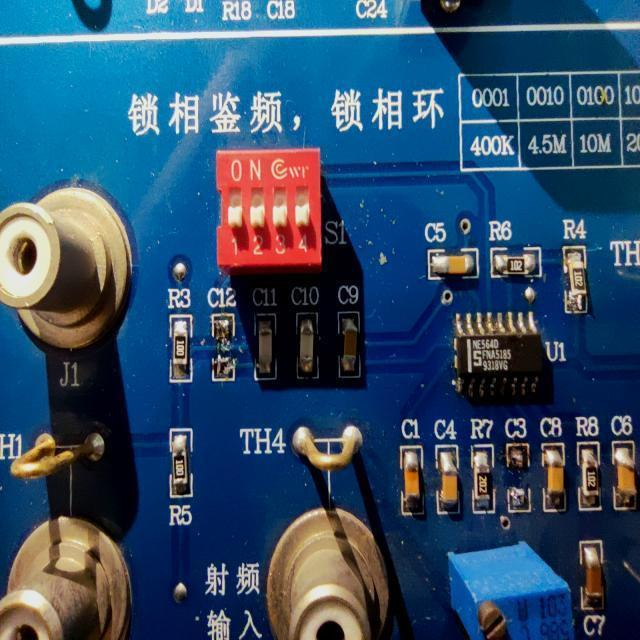Missing component: (205, 282, 242, 388), (502, 412, 536, 517)
